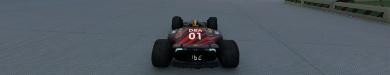Car: (150, 15, 239, 68)
obstacles-Borders: (284, 0, 389, 25)
